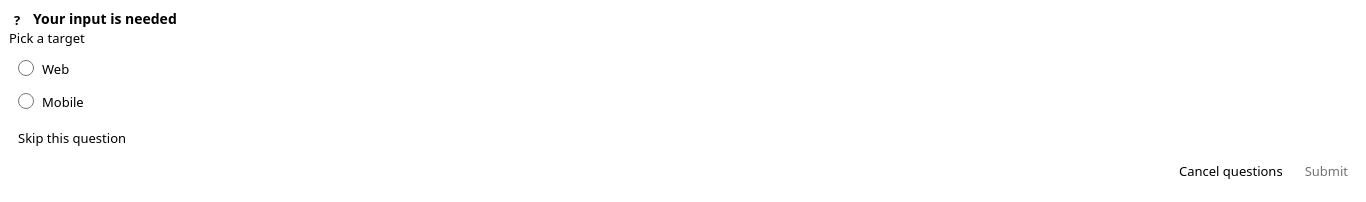
UserQuestionCard › a question that forbids free text › keeps submit disabled until a choice is picked
Expected: the button "Submit" is disabled, 1296,157 -> 1357,186
Click the radio button labelled "Web".
click(26, 68)  # box 18,60 -> 34,76
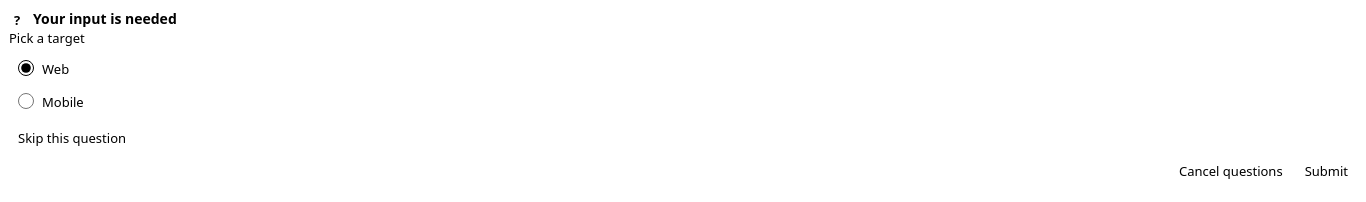
Expected: the button "Submit" is enabled, 1296,157 -> 1357,186
